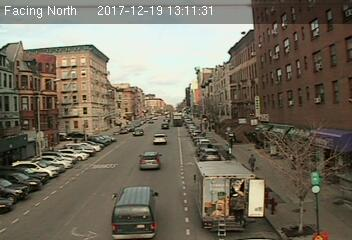car: (137, 152, 162, 172), (199, 148, 222, 160), (151, 134, 169, 144), (131, 127, 144, 137), (160, 122, 169, 128)
pedestrian: (247, 152, 255, 175)
truck: (194, 162, 264, 236), (109, 185, 162, 240)
